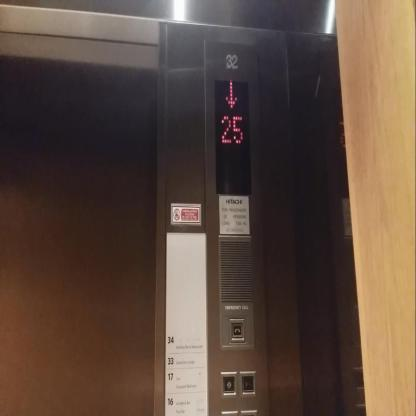call: (229, 317, 245, 342)
close: (239, 370, 257, 396)
led: (214, 78, 251, 197)
open: (221, 371, 237, 398)
